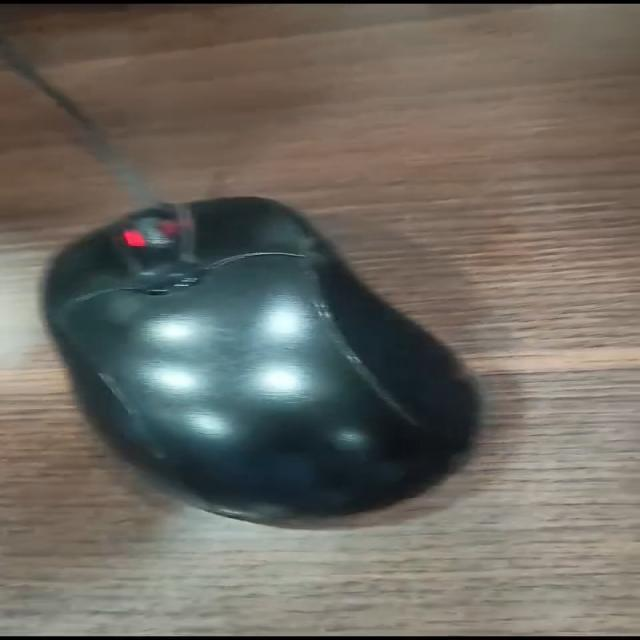mouse: (11, 171, 560, 554)
